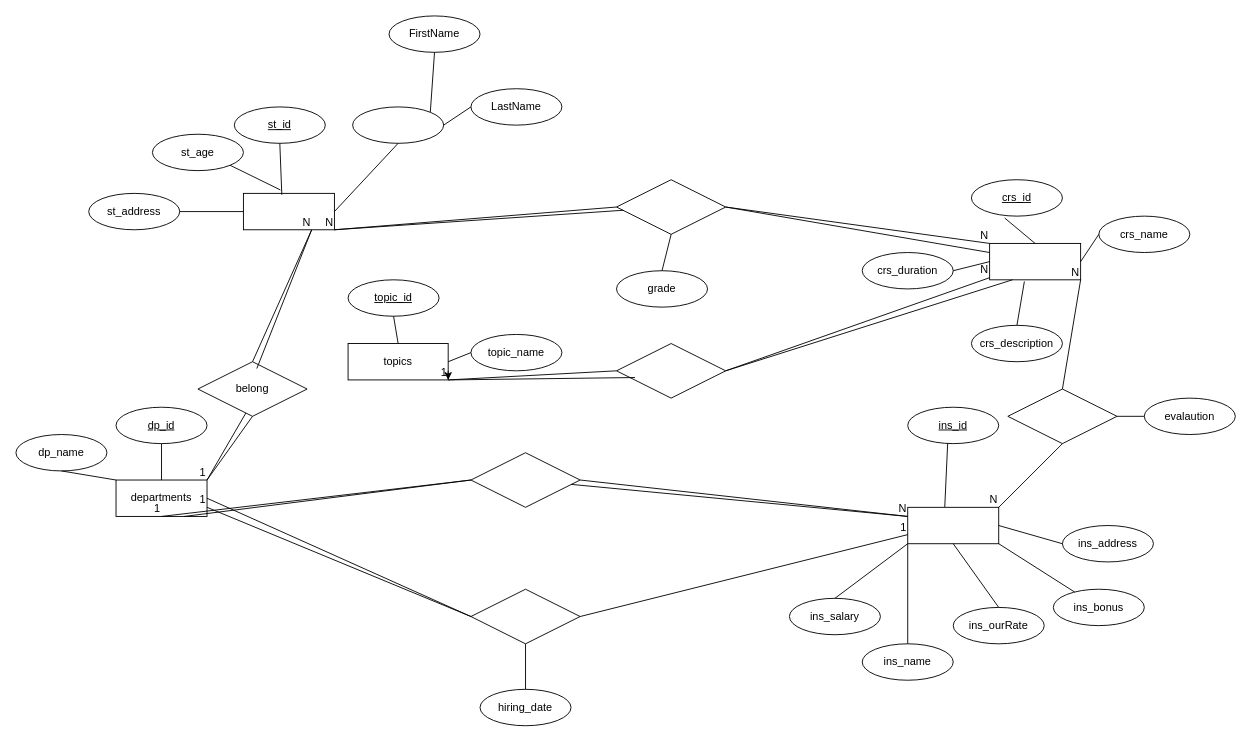
Image size: 1251x742. Some labels were removed from this diagram. Each missing label, with the box of its shape:
classiefed: (616, 343, 726, 398)
contain: (470, 452, 580, 507)
cources: (989, 243, 1081, 280)
instructors: (907, 506, 999, 544)
manage: (470, 588, 580, 644)
student: (243, 192, 334, 230)
student_name: (352, 106, 444, 143)
take: (616, 179, 726, 234)
teach: (1007, 388, 1117, 444)
